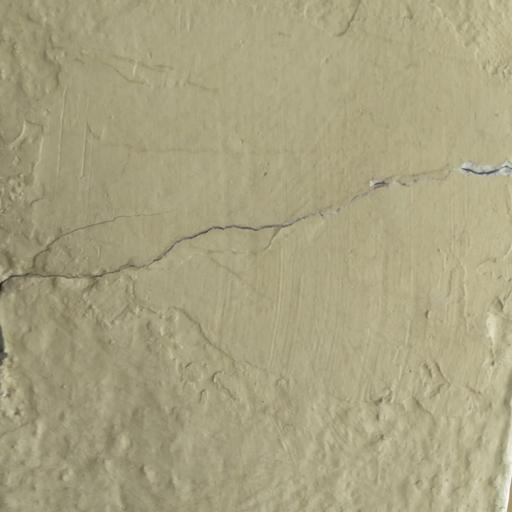minor_crack: (0, 148, 512, 310)
